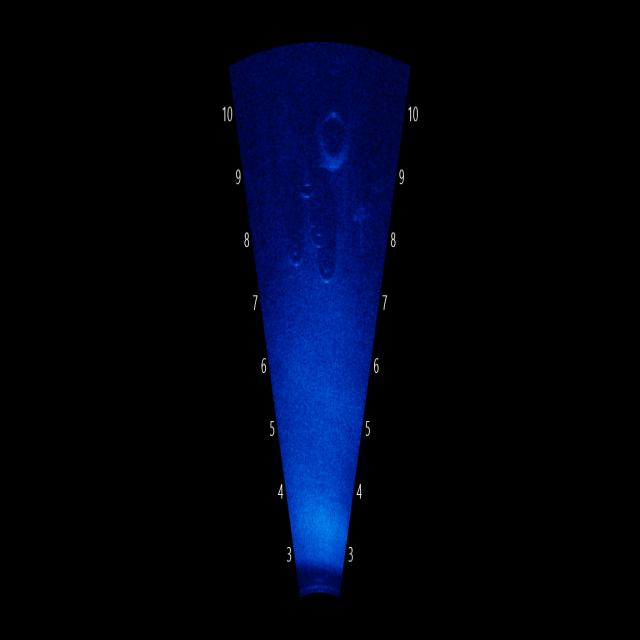circle: (309, 81, 358, 181), (286, 162, 334, 221), (310, 231, 344, 286), (304, 197, 340, 248), (284, 213, 310, 280)
